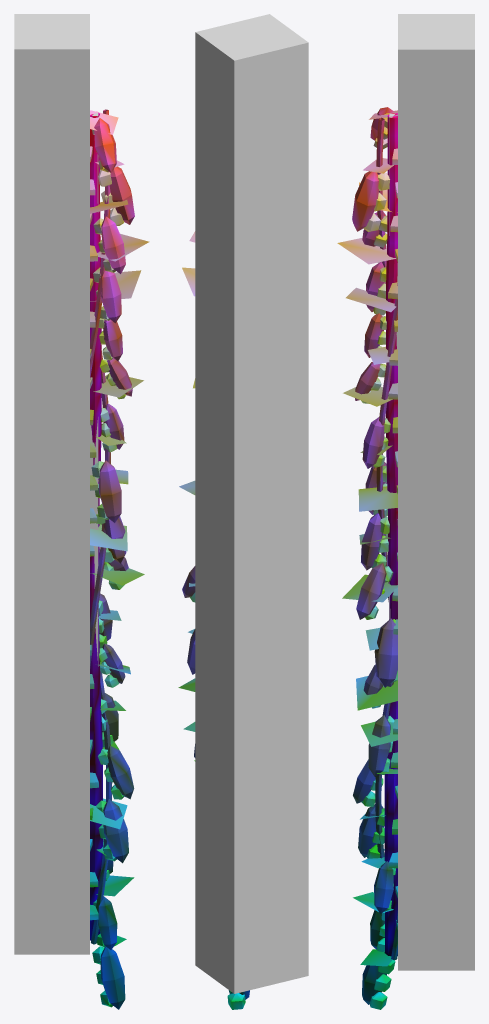
File: Plant_Ladder_05.fbx
The picture shows the model from 3 angles, left to right: view 1: azimuth 90°, elevation 25°; view 2: azimuth 210°, elevation 25°; view 3: azimuth 270°, elevation 25°; orthographic projection. The views are drawn at different scales.
Visible parts, largest first — view 1: CLIMB_0, Plant_Ladder_05, COL_05_0; view 2: CLIMB_0, Plant_Ladder_05; view 3: CLIMB_0, Plant_Ladder_05.
Boxes of the visible parts, x1,y1,x2,y2 form: CLIMB_0: [14, 14, 89, 954]; Plant_Ladder_05: [90, 109, 149, 1009]; COL_05_0: [90, 112, 98, 666]; CLIMB_0: [195, 14, 308, 993]; Plant_Ladder_05: [178, 231, 249, 1009]; CLIMB_0: [398, 14, 474, 970]; Plant_Ladder_05: [337, 107, 397, 1009].
Size of the model in its own units: 1.13 by 14.11 by 1.79.
